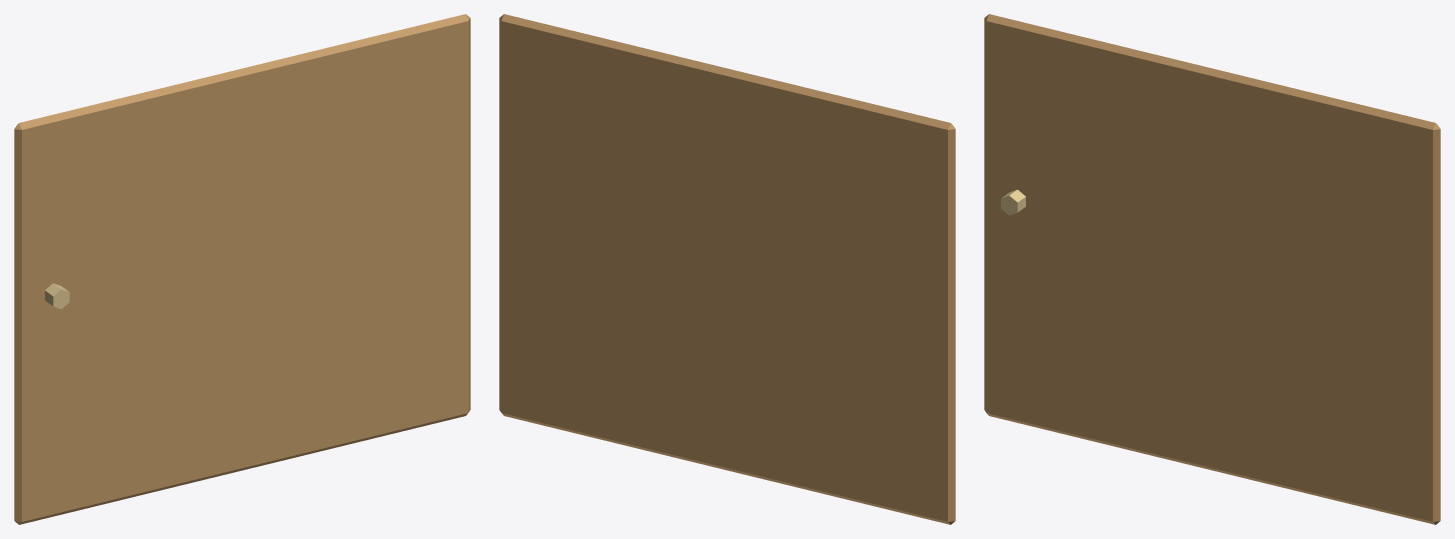
File: sideboard_door.glb
The picture shows the model from 3 angles, left to right: view 1: azimuth 30°, elevation 25°; view 2: azimuth 150°, elevation 25°; view 3: azimuth 330°, elevation 25°; orthographic projection.
Parts seen in each view (by area): view 1: sideboard_door; view 2: sideboard_door; view 3: sideboard_door.
Part boxes in pixels (x1,y1,x2,y2): sideboard_door: (14, 14, 470, 524); sideboard_door: (499, 14, 955, 524); sideboard_door: (984, 14, 1440, 524).
Bounding box in the file's own units: 0.95 × 0.8 × 0.05.
